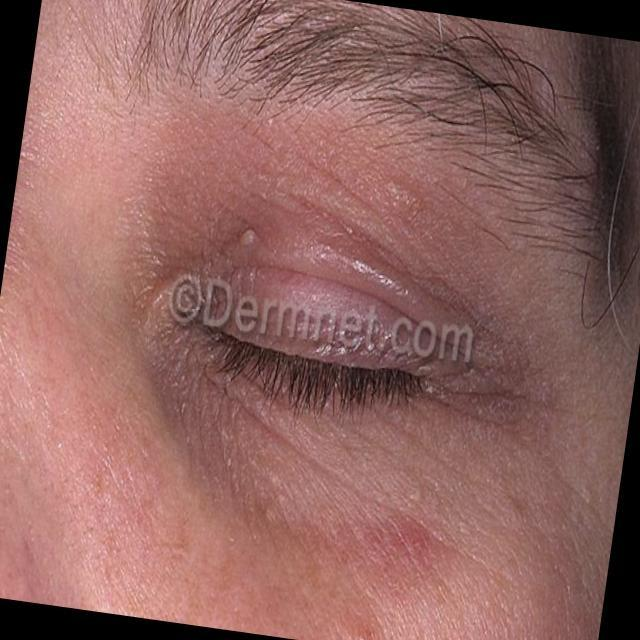Eczema: (132, 173, 511, 556)
